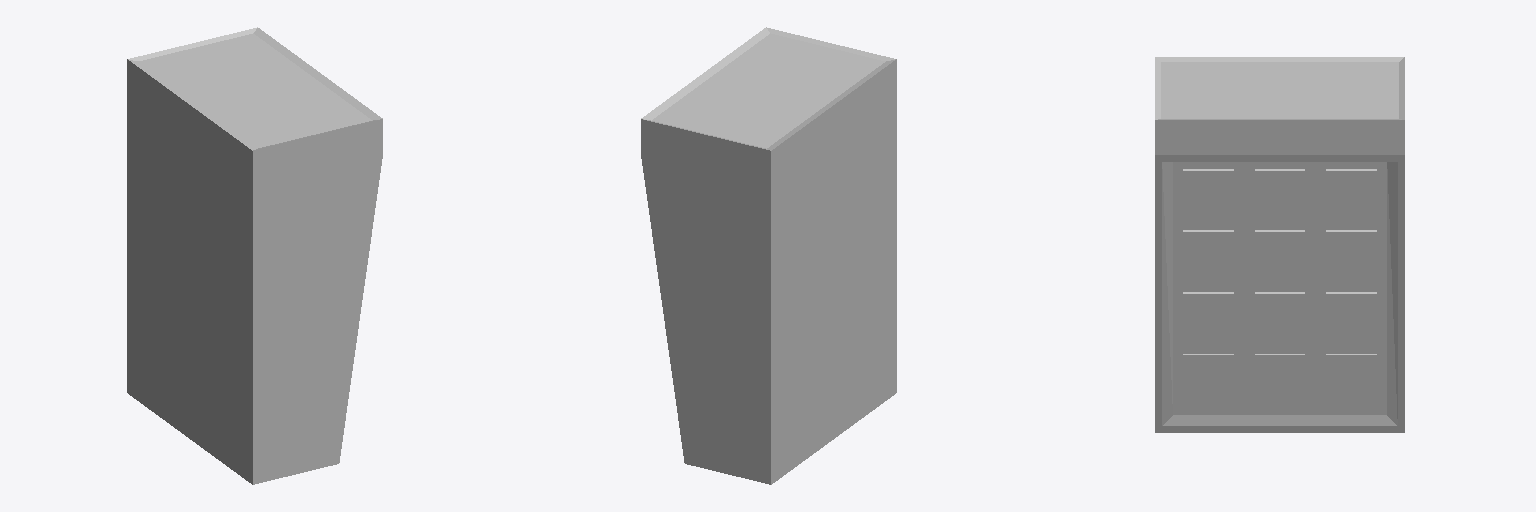
The model's file is Keypad.obj.
3 views of the same model, side by side, from view 1: azimuth 30°, elevation 25°; view 2: azimuth 150°, elevation 25°; view 3: azimuth 270°, elevation 25° (orthographic).
Visible parts, largest first — view 1: Cube; view 2: Cube; view 3: Cube.
Part boxes in pixels (left/top/right/bottom): Cube: left=127, top=27, right=382, bottom=484; Cube: left=641, top=27, right=896, bottom=484; Cube: left=1155, top=57, right=1404, bottom=432.
Bounding box in the file's own units: 0.3042 × 0.7362 × 0.5.